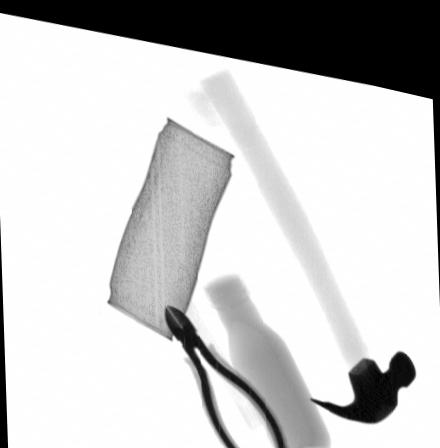Hammer: (202, 55, 417, 405)
Pliers: (164, 296, 289, 448)
